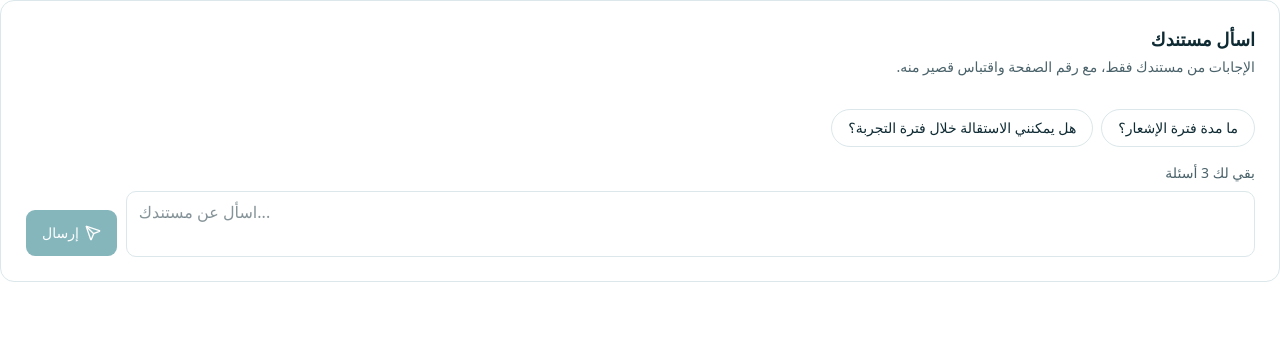
Test case: shows question_limit_reached and stops asking
The image size is (1280, 347).
Type "سؤال" into the text box named "سؤالك" at (690, 224), box [126,191,1255,257]
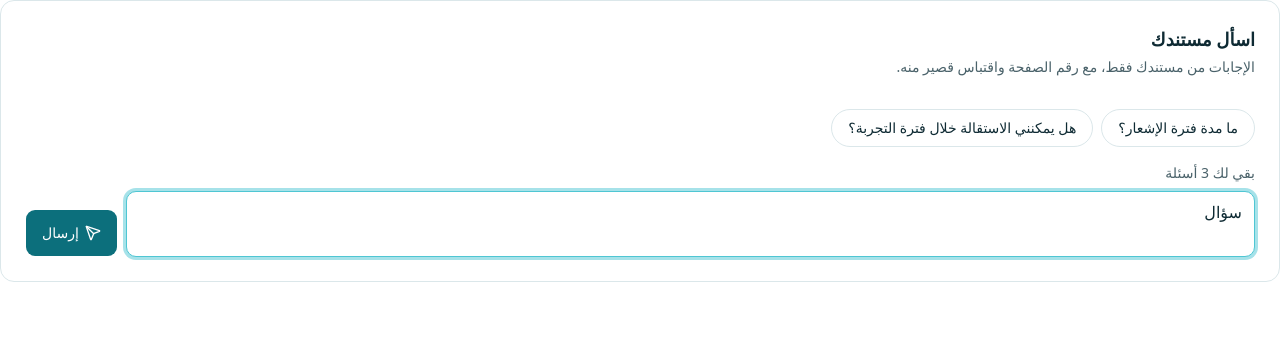
Click the button "إرسال" at (71, 233), box [25,209,118,257]
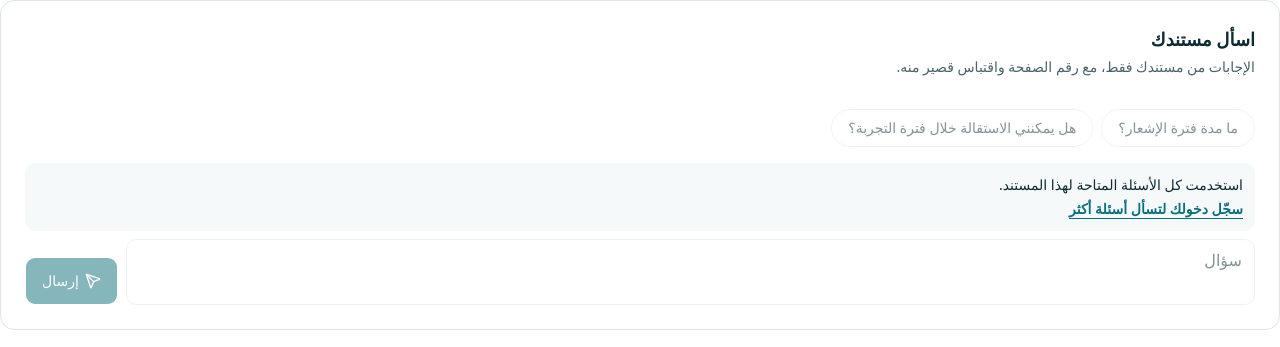
Expected: the text "استخدمت كل الأسئلة المتاحة لهذا المستند." is shown, [999,175,1243,194]
Expected: the text box named "سؤالك" is disabled, [126,239,1255,305]
